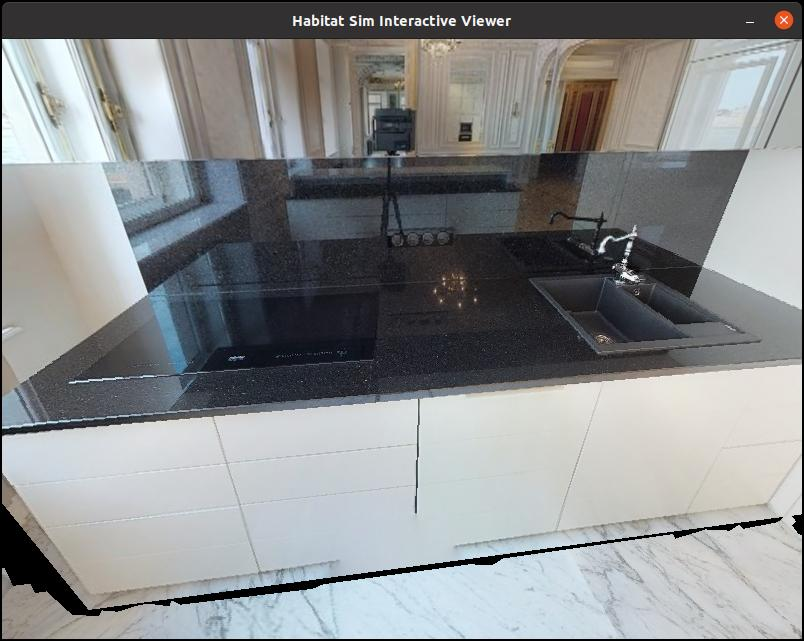sink: (527, 211, 760, 365)
table: (0, 244, 804, 571)
